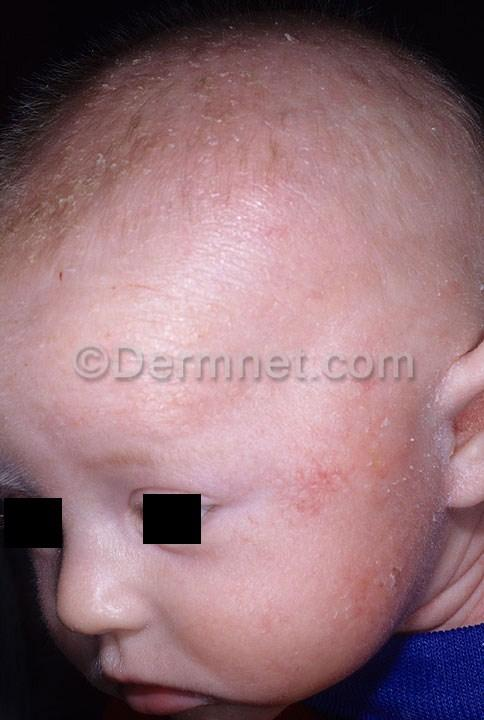eritema 1: (280, 443, 408, 632)
xerosis 1: (382, 380, 465, 543)
